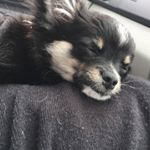puppy: (1, 1, 140, 104)
